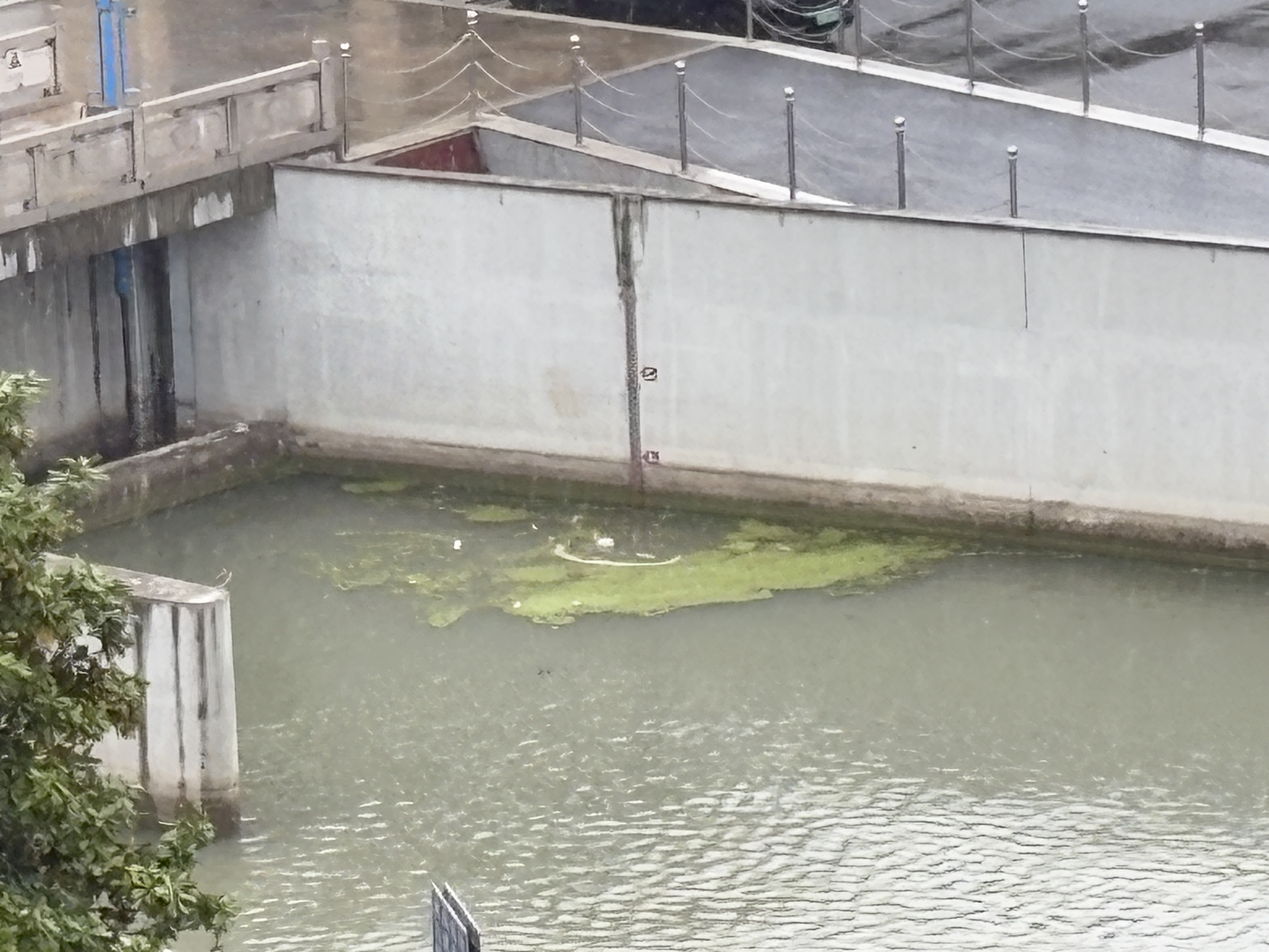Other: (581, 561, 774, 603), (746, 516, 902, 561), (493, 555, 580, 625), (327, 563, 471, 595), (777, 562, 875, 586), (461, 502, 542, 524), (338, 480, 413, 493)
Plastic wastes: (595, 537, 616, 547), (453, 538, 460, 550)
